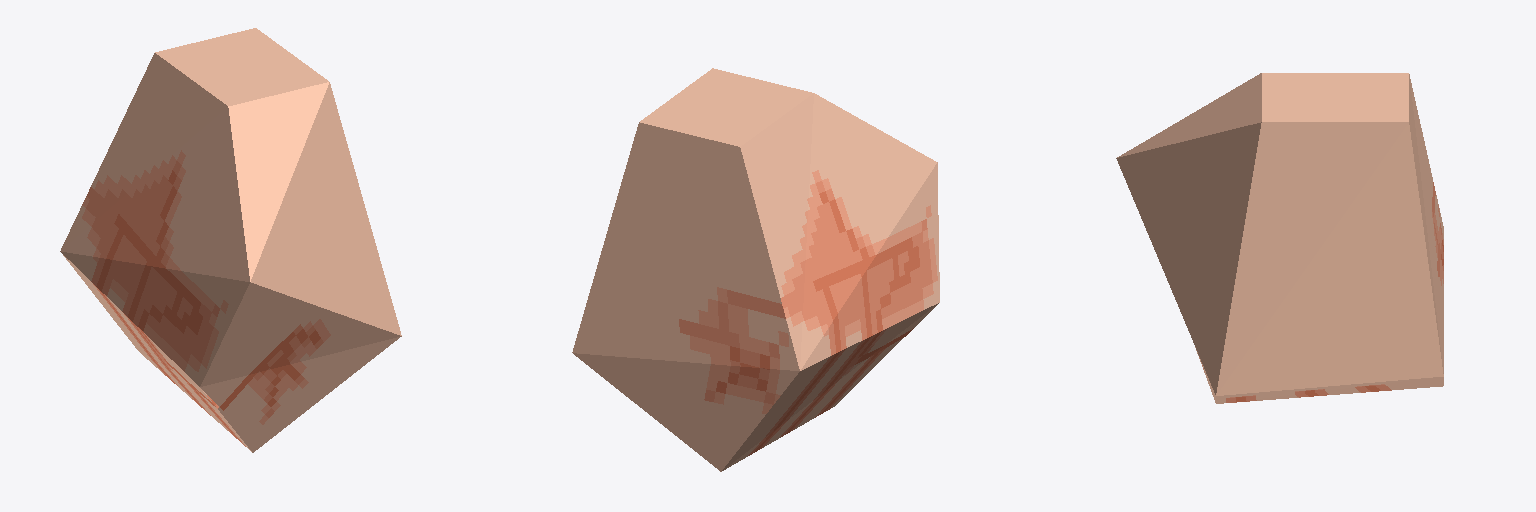
3 views of the same model, side by side, from view 1: azimuth 30°, elevation 25°; view 2: azimuth 150°, elevation 25°; view 3: azimuth 270°, elevation 25° (orthographic).
Parts seen in each view (by area): view 1: 06_LEFT_HAND; view 2: 06_LEFT_HAND; view 3: 06_LEFT_HAND.
Boxes of the visible parts, <box> form: 06_LEFT_HAND: <box>60,28,401,452</box>; 06_LEFT_HAND: <box>572,68,939,471</box>; 06_LEFT_HAND: <box>1116,73,1443,403</box>.
Bounding box in the file's own units: 0.1213 × 0.168 × 0.151.
1 materials, 1 textured.